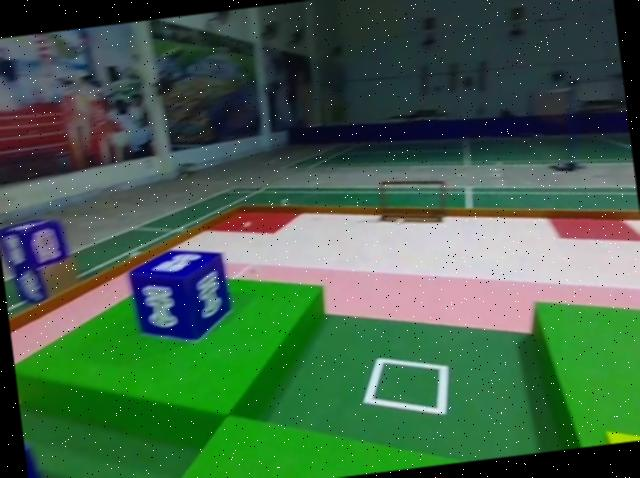R2 Fake Blue: (0, 216, 69, 275)
R2 Real Blue: (125, 244, 237, 351), (20, 424, 55, 478)
